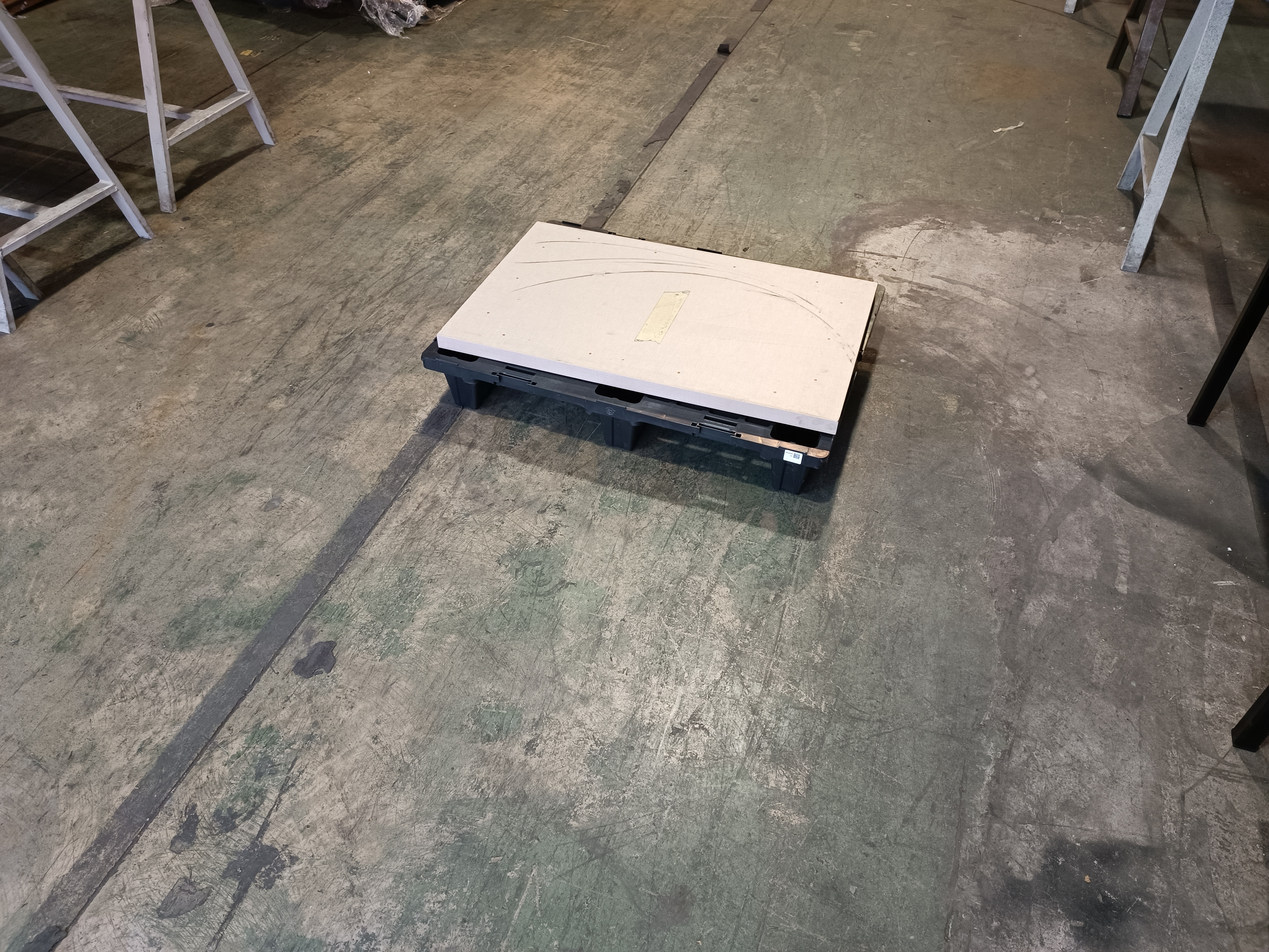block: (768, 454, 807, 500), (600, 411, 634, 456), (445, 378, 475, 414)
front: (424, 360, 824, 516)
hole pallet: (636, 420, 778, 492), (470, 380, 605, 445)
